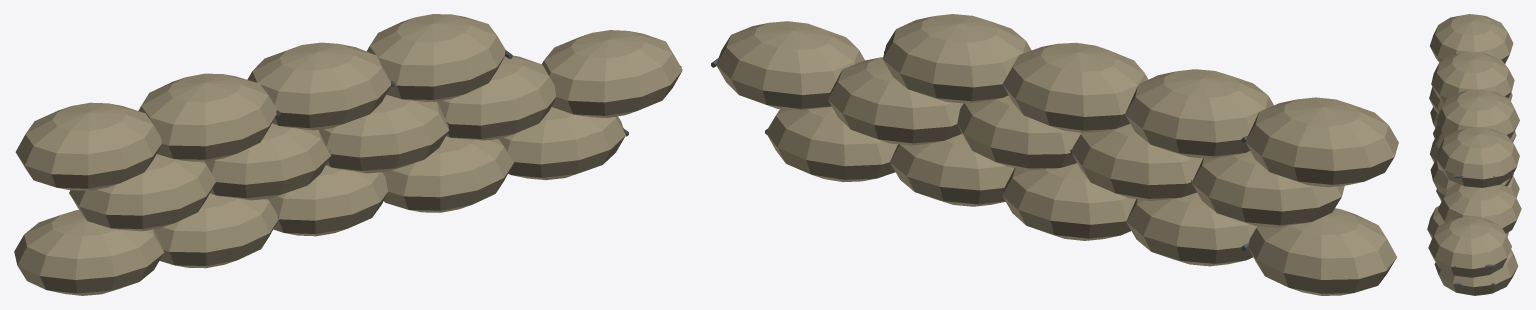
File: Sandbags.fbx
The picture shows the model from 3 angles, left to right: view 1: azimuth 30°, elevation 25°; view 2: azimuth 150°, elevation 25°; view 3: azimuth 270°, elevation 25°; orthographic projection. The views are drawn at different scales.
Parts seen in each view (by area): view 1: Sandbags; view 2: Sandbags; view 3: Sandbags.
Part boxes in pixels (x1,y1,x2,y2): Sandbags: [14, 14, 682, 295]; Sandbags: [711, 14, 1398, 295]; Sandbags: [1427, 14, 1521, 295].
Bounding box in the file's own units: 2.98 × 0.76 × 0.5627.
